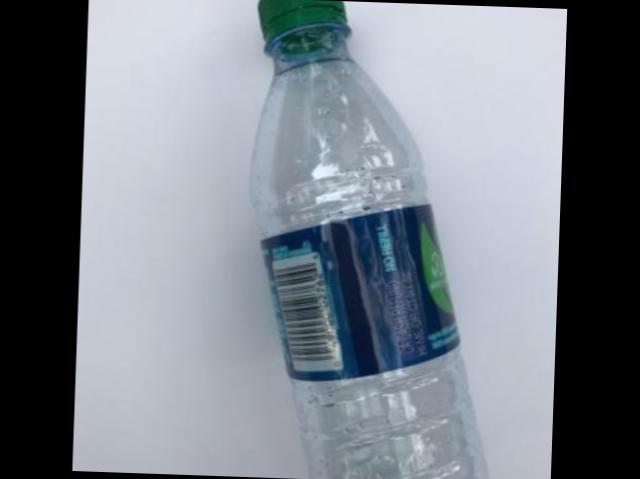plastic: (253, 0, 489, 479)
